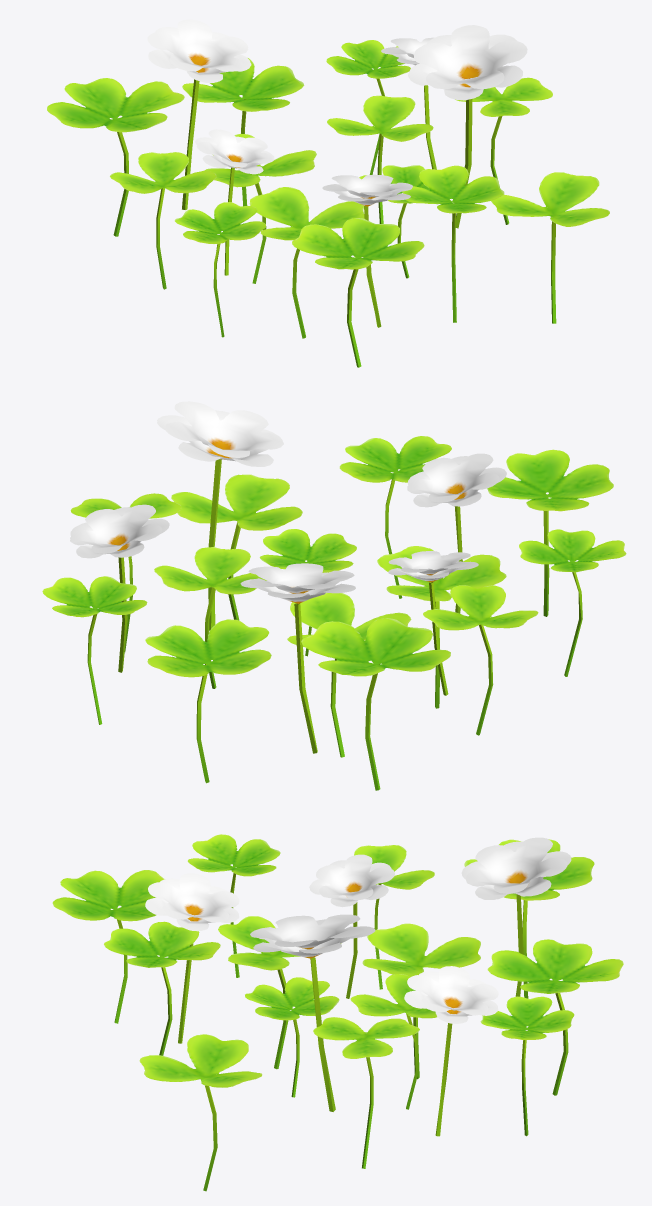
File: clover_whiteflowers.fbx
3 renders of one model, top to bottom at view 1: azimuth 30°, elevation 25°; view 2: azimuth 150°, elevation 25°; view 3: azimuth 270°, elevation 25°, orthographic. The views are drawn at different scales.
Visible parts, largest first — view 1: clover_whiteflowers; view 2: clover_whiteflowers; view 3: clover_whiteflowers.
Part boxes in pixels (left/top/right/bottom): clover_whiteflowers: left=47, top=19, right=609, bottom=367; clover_whiteflowers: left=42, top=401, right=626, bottom=790; clover_whiteflowers: left=52, top=834, right=623, bottom=1191.
Size of the model in its own units: 144 by 71.87 by 159.
